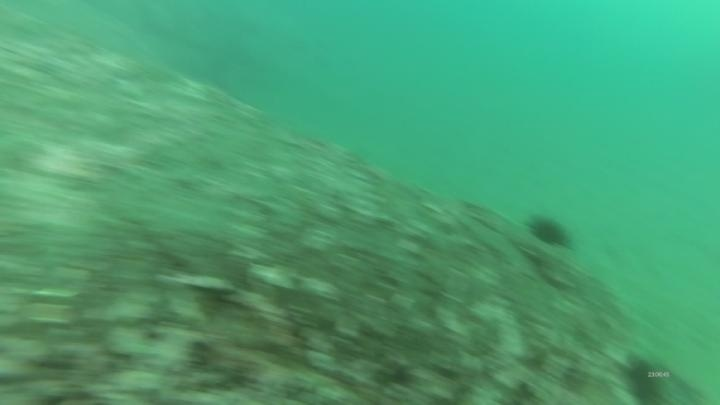echinus: (618, 352, 668, 405), (525, 211, 575, 251)
